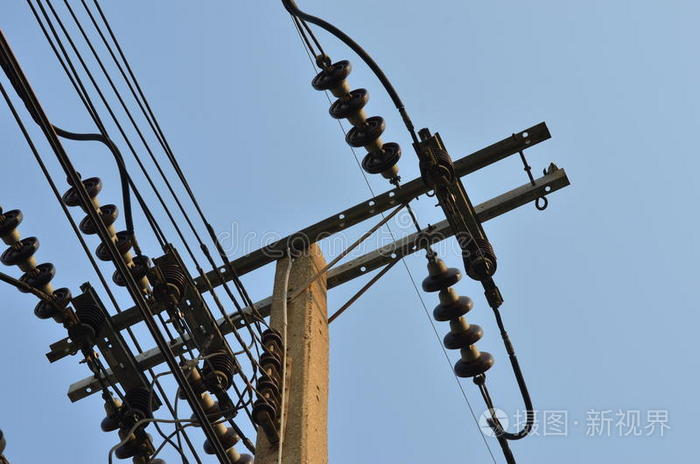insulator: (309, 58, 404, 172), (64, 179, 149, 284), (424, 266, 493, 379), (1, 206, 70, 316), (180, 376, 254, 462), (97, 405, 165, 464)
